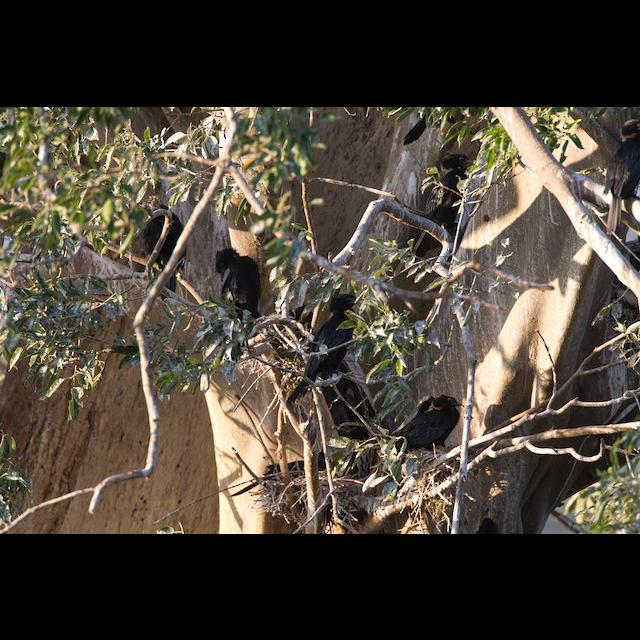cormorant: (390, 389, 466, 455)
